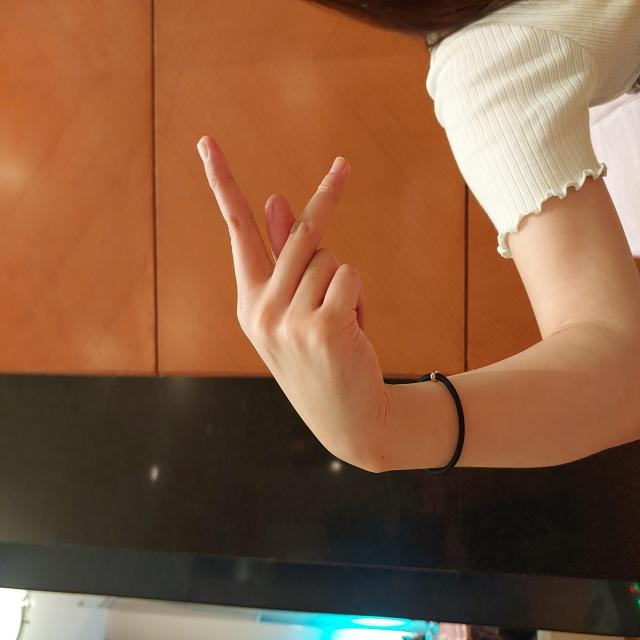K: (165, 196, 508, 388)
